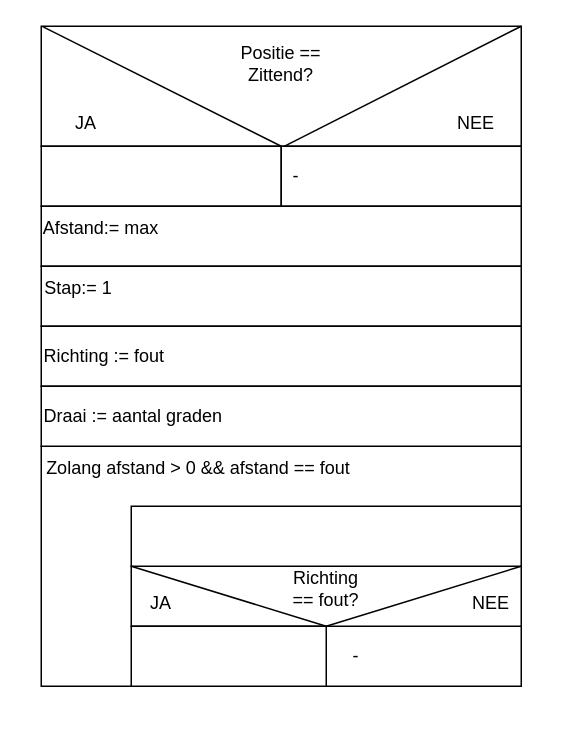
The diagram is 576 pixels wide and 743 high, and some of its shapes have lost their labels. Here are the shapes that lost their labels. From the top down, the centre of each, then its label:
(x=160, y=175): Positie:=Staand
(x=325, y=535): Afstand:= Afstand - Stap
(x=228, y=655): Richting := Richting + draai
